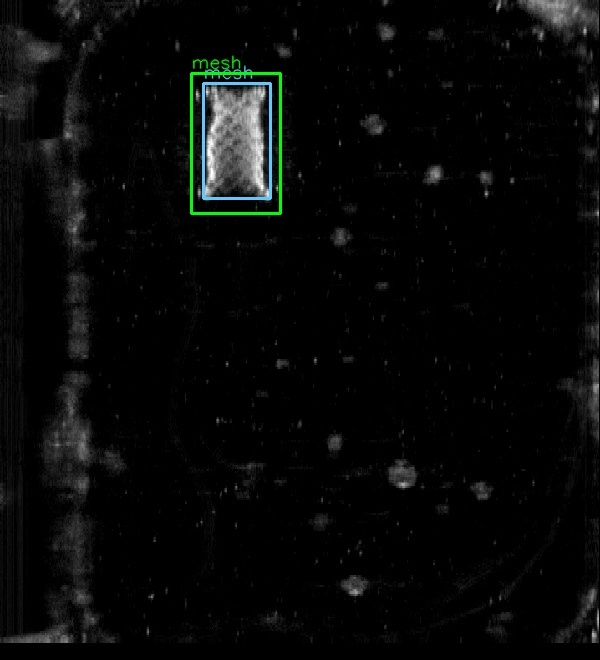mesh: (203, 83, 270, 198)
